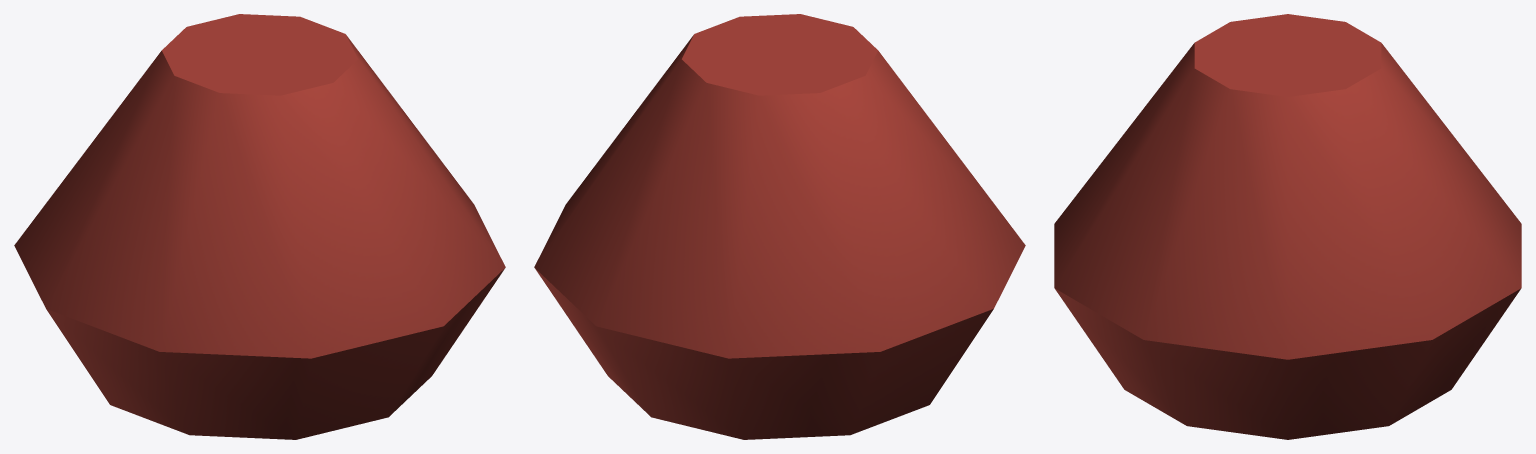
Rendered from yumako-seed.glb.
3 views of the same model, side by side, from view 1: azimuth 30°, elevation 25°; view 2: azimuth 150°, elevation 25°; view 3: azimuth 270°, elevation 25° (orthographic).
Visible parts, largest first — view 1: yumako-seed; view 2: yumako-seed; view 3: yumako-seed.
Boxes of the visible parts, x1,y1,x2,y2 form: yumako-seed: [14, 14, 505, 439]; yumako-seed: [534, 14, 1025, 439]; yumako-seed: [1054, 14, 1521, 439].
Bounding box in the file's own units: 0.1 × 0.07 × 0.0951.
